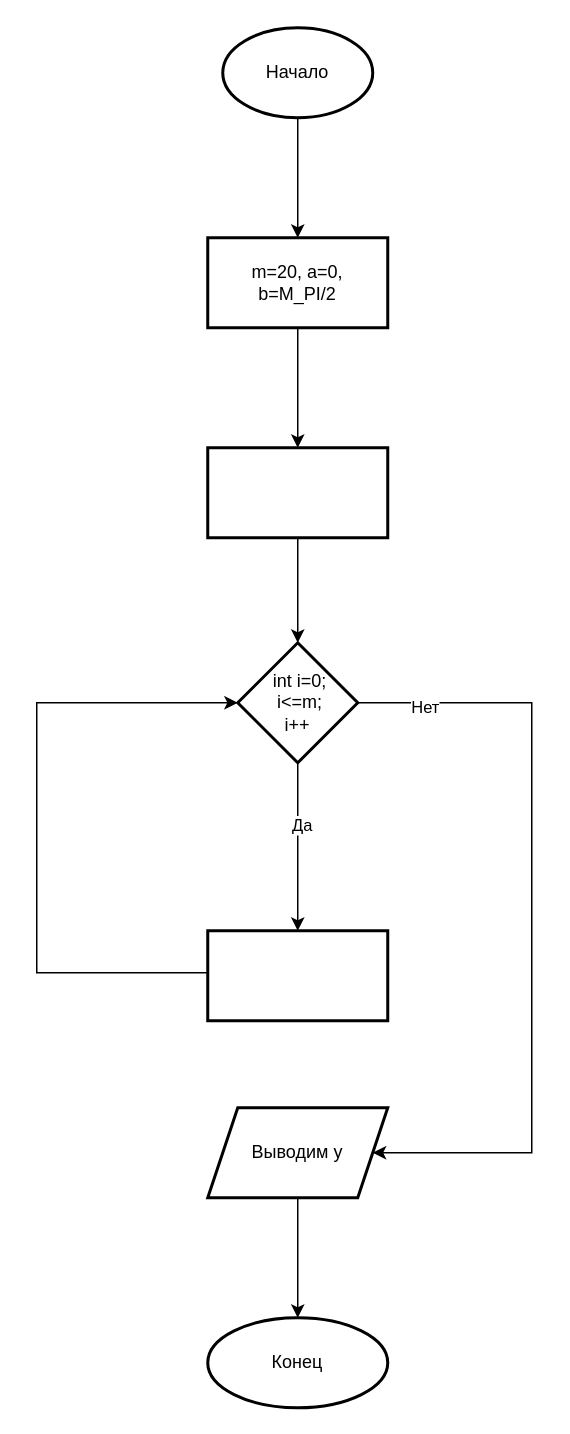
The diagram is 570 pixels wide and 1434 high, and some of its shapes have lost their labels. The shapes that lost their labels are listed below. From the top down, each one's box as (x1, y1, x2, y2) in pixels, then its label:
(206, 446, 388, 538): h = (b - a) / m
(206, 928, 388, 1022): x = a + i * h y = sin(x) - cos(x)
